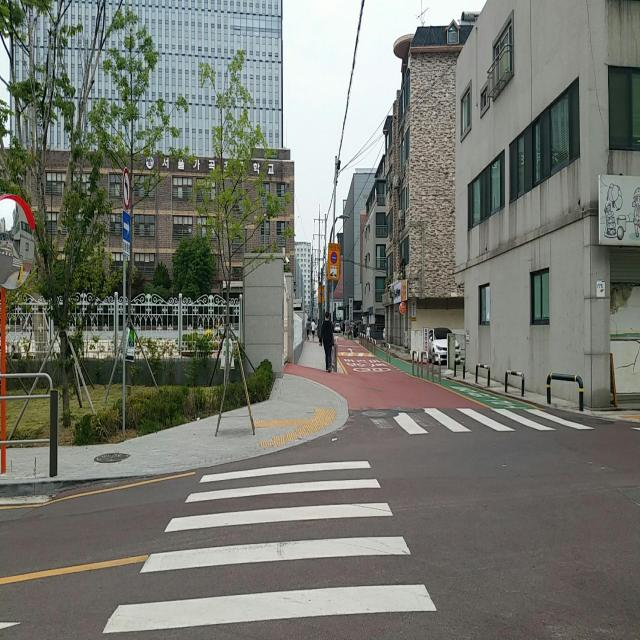횡단보도: (99, 456, 439, 636), (363, 404, 582, 444)
